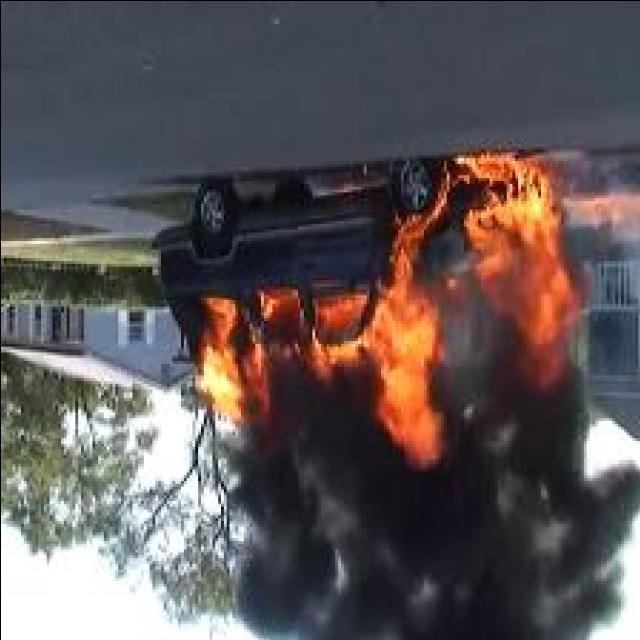Fire: (308, 148, 586, 466), (197, 294, 300, 432)
